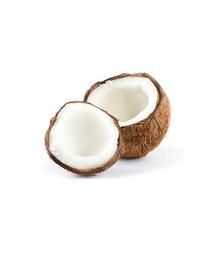coconut: (83, 72, 171, 159), (44, 101, 124, 178)
